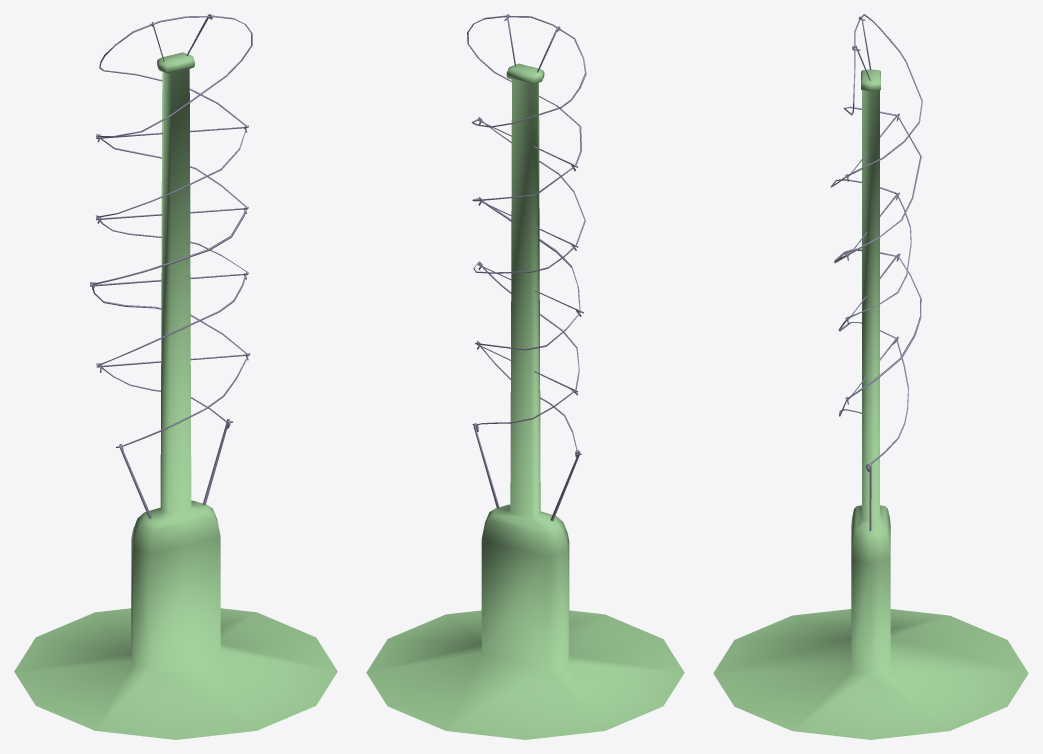
Rendered from SM_Electrode_2.FBX.
3 renders of one model, left to right at view 1: azimuth 30°, elevation 25°; view 2: azimuth 150°, elevation 25°; view 3: azimuth 270°, elevation 25°, orthographic. The views are drawn at different scales.
Parts seen in each view (by area): view 1: Glow_Bulb_Shtengel, Glow_Bulb_Electrode; view 2: Glow_Bulb_Shtengel, Glow_Bulb_Electrode; view 3: Glow_Bulb_Shtengel, Glow_Bulb_Electrode.
Boxes of the visible parts, x1=… form: Glow_Bulb_Shtengel: x1=14, y1=52, x2=337, y2=739; Glow_Bulb_Electrode: x1=90, y1=14, x2=252, y2=518; Glow_Bulb_Shtengel: x1=366, y1=63, x2=684, y2=739; Glow_Bulb_Electrode: x1=467, y1=14, x2=586, y2=521; Glow_Bulb_Shtengel: x1=713, y1=69, x2=1028, y2=739; Glow_Bulb_Electrode: x1=830, y1=14, x2=922, y2=531.
Bounding box in the file's own units: 3.13 × 3.13 × 7.32.
